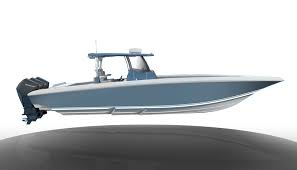boat: (16, 39, 285, 126)
